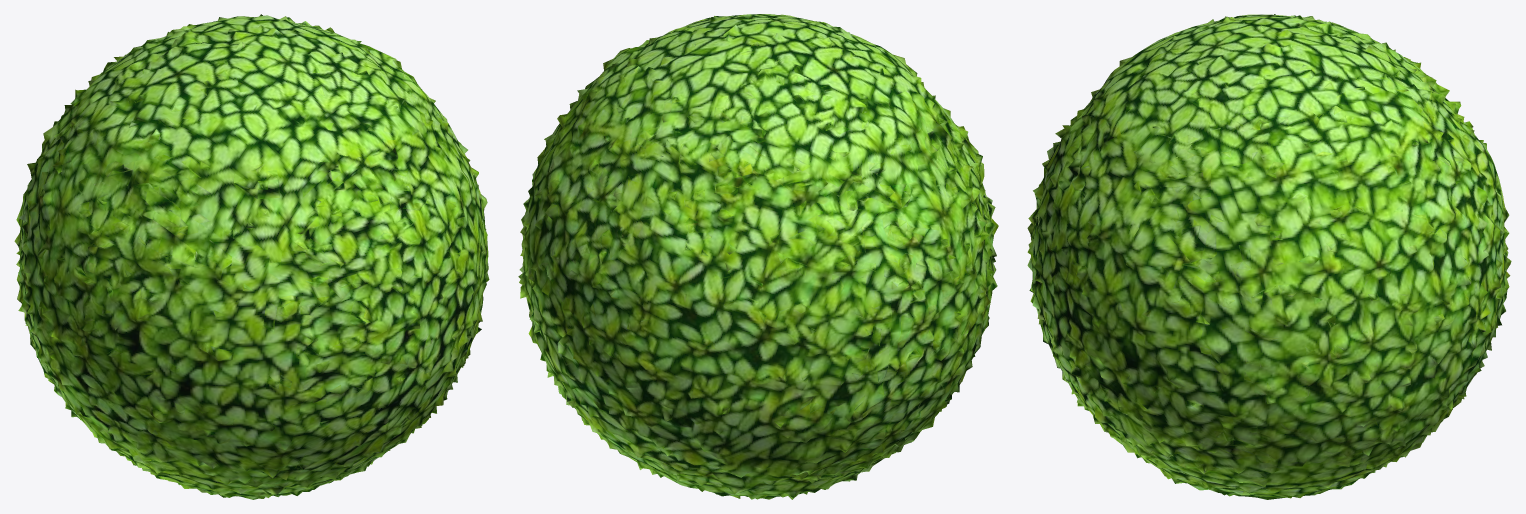
The model's file is shrub.glb.
3 views of the same model, side by side, from view 1: azimuth 30°, elevation 25°; view 2: azimuth 150°, elevation 25°; view 3: azimuth 270°, elevation 25° (orthographic).
Size of the model in its own units: 1.85 by 1.91 by 1.85.
Materials: 1 (1 with a texture image).
